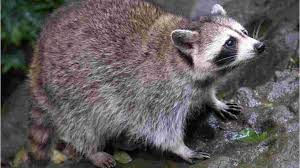raccoon: (28, 1, 263, 157)
